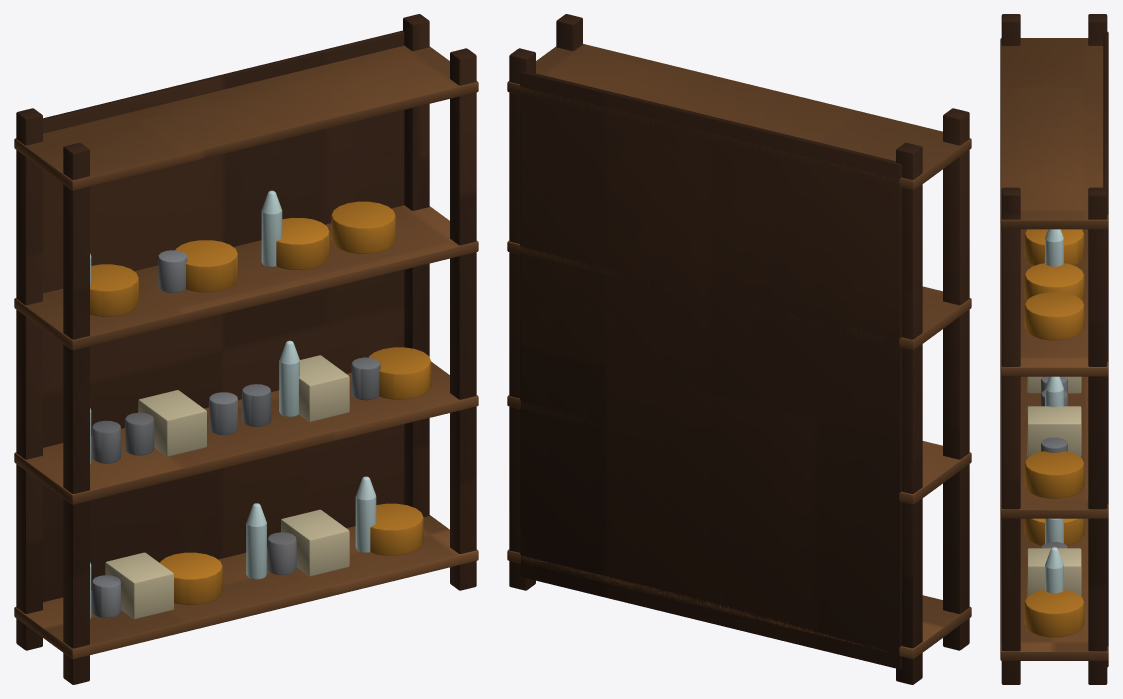
File: prop_shelf.glb
The picture shows the model from 3 angles, left to right: view 1: azimuth 30°, elevation 25°; view 2: azimuth 150°, elevation 25°; view 3: azimuth 270°, elevation 25°; orthographic projection. The views are drawn at different scales.
Visible parts, largest first — view 1: prop_shelf; view 2: prop_shelf; view 3: prop_shelf.
Part boxes in pixels (<box>): prop_shelf: <box>14,14,478,684</box>; prop_shelf: <box>507,14,971,684</box>; prop_shelf: <box>1000,14,1108,684</box>.
Bounding box in the file's own units: 1.6 × 2 × 0.4.
6 materials, 6 textured.
